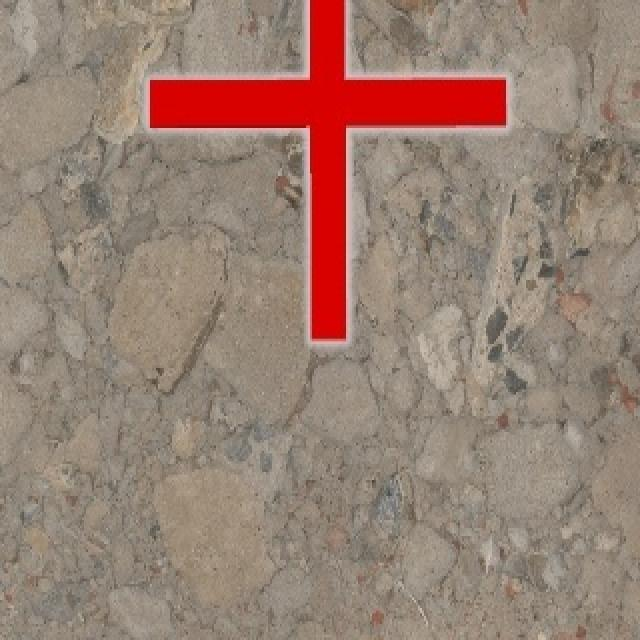x_marker: (147, 0, 507, 339)
